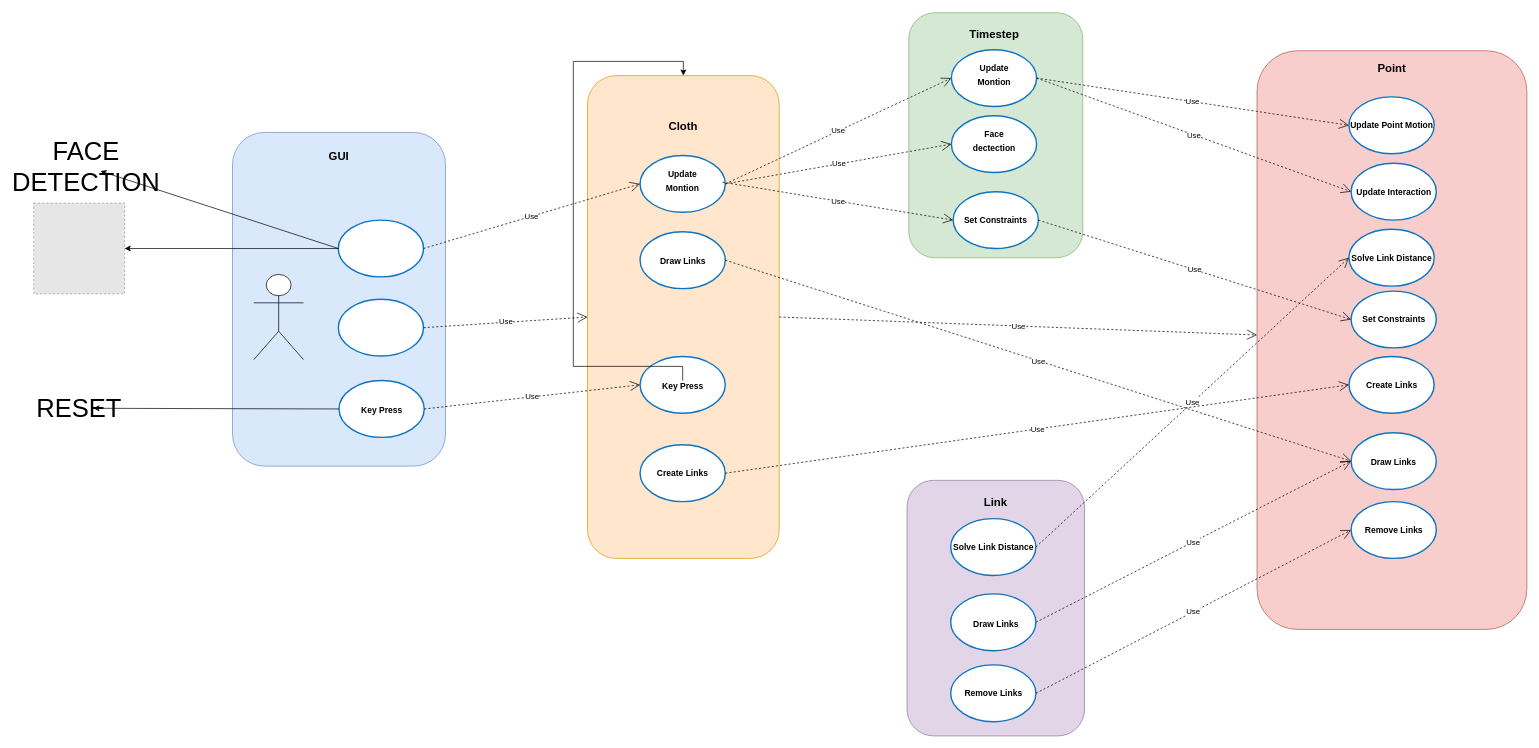
Image size: 1539x748. Some labels were removed from this diagram. Grey dashed boxes stand in for pictures. Here are the shapes that lost their labels. From the top down, the centre of each, then its label:
the point at 380,248: Move head Position
the point at 278,317: User
the point at 380,327: Create Cloth
